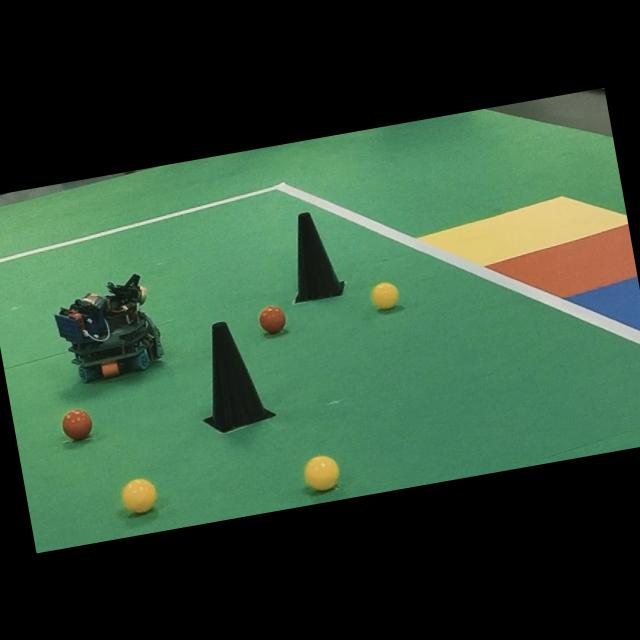ball: (304, 455, 339, 490), (122, 478, 156, 512), (62, 408, 92, 440), (259, 305, 286, 333), (371, 282, 398, 309)
goal: (419, 196, 627, 265), (488, 224, 636, 297), (566, 277, 640, 330)
